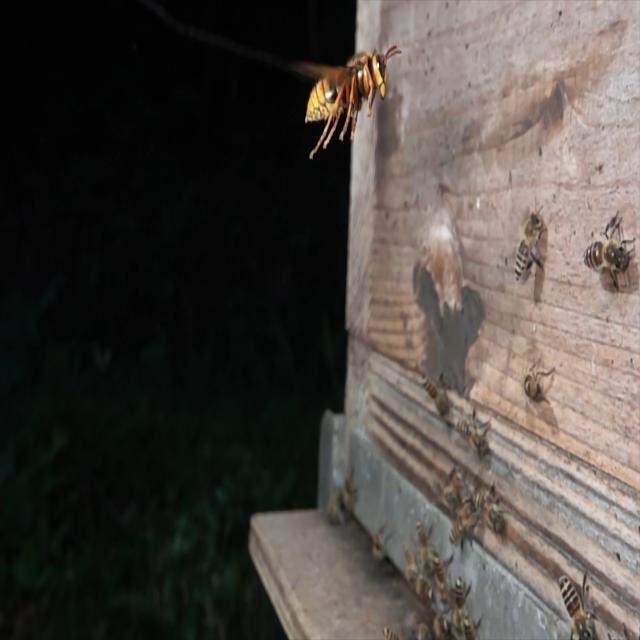Bees: (584, 213, 636, 294), (514, 198, 548, 283), (559, 568, 598, 640), (470, 483, 510, 541), (452, 404, 492, 459)
Hornets: (305, 45, 402, 161)
